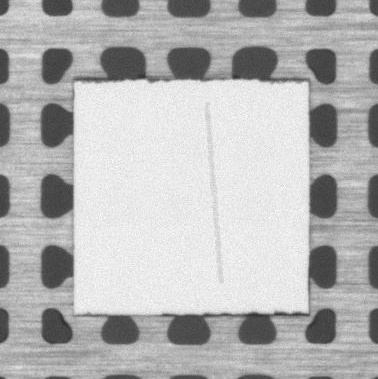DIE_CRACK: (206, 103, 220, 283)
